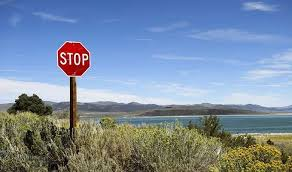stop sign: (58, 39, 90, 77)
